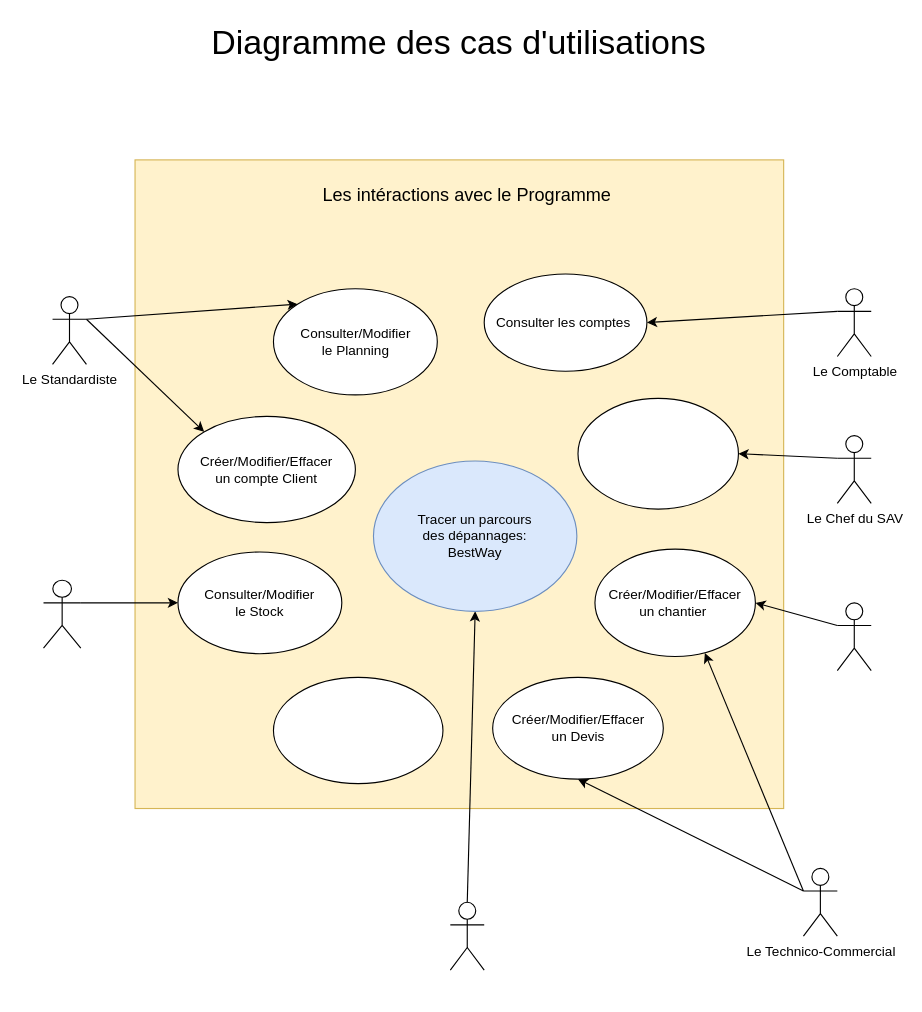
Some shapes in this 922 by 1012 pixel diagram are drawn without their labels. The shapes that lost their labels are listed below. From the top down, each one's centre as x and y in pixels, then its label:
At point 657,453: "Consulter/Valider un Dépannage".
At point 61,613: "Le Magasinier".
At point 853,636: "L'Installateur".
At point 357,730: "Automatiser des taches Créer des alertes".
At point 466,935: "Le Dépanneur".
